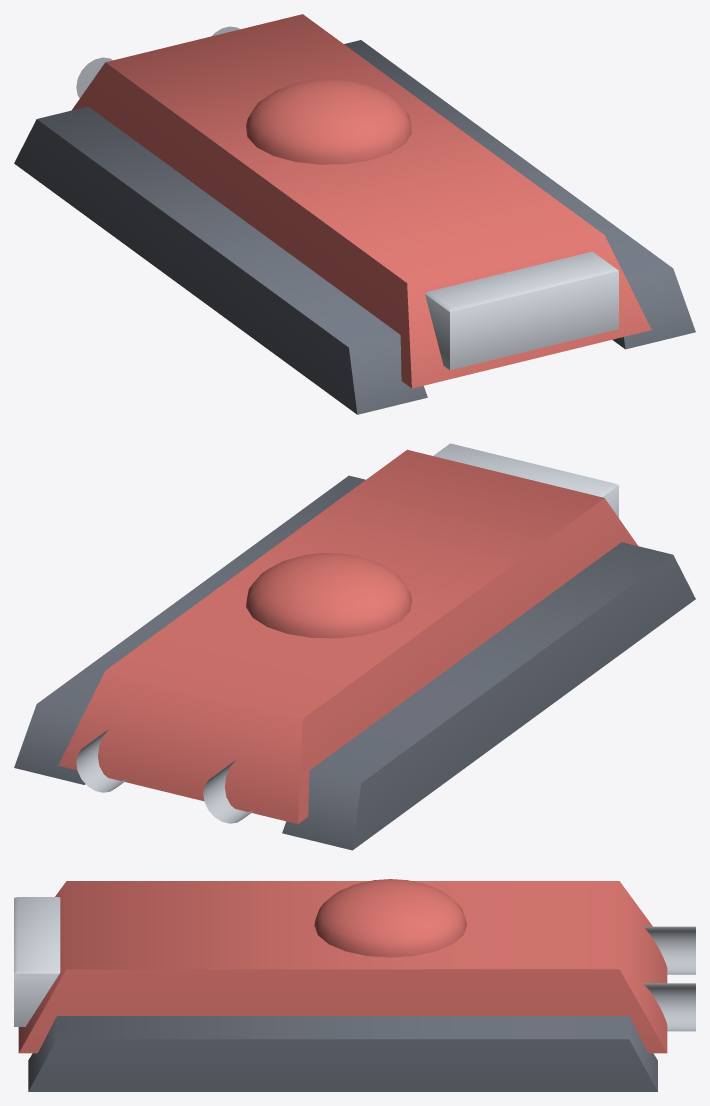
The model's file is soviet_sub_apc.glb.
3 renders of one model, top to bottom at view 1: azimuth 30°, elevation 25°; view 2: azimuth 150°, elevation 25°; view 3: azimuth 270°, elevation 25°, orthographic. The views are drawn at different scales.
Parts seen in each view (by area): view 1: Hull; view 2: Hull; view 3: Hull.
Boxes of the visible parts, box(x1,y1,x2,y2) form: Hull: box(14, 14, 695, 414); Hull: box(14, 443, 695, 850); Hull: box(14, 879, 695, 1091).
Size of what is drawn, in the model's own units: 1.73 by 0.66 by 3.29.
